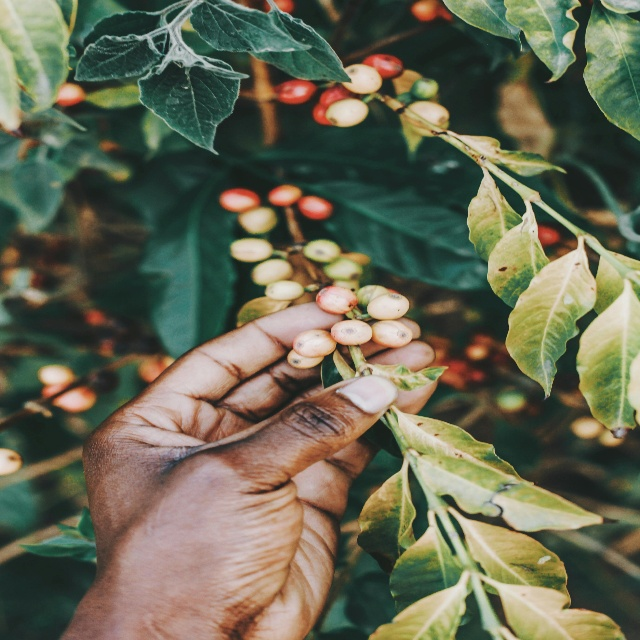Sin_guantes: (76, 297, 438, 640)
